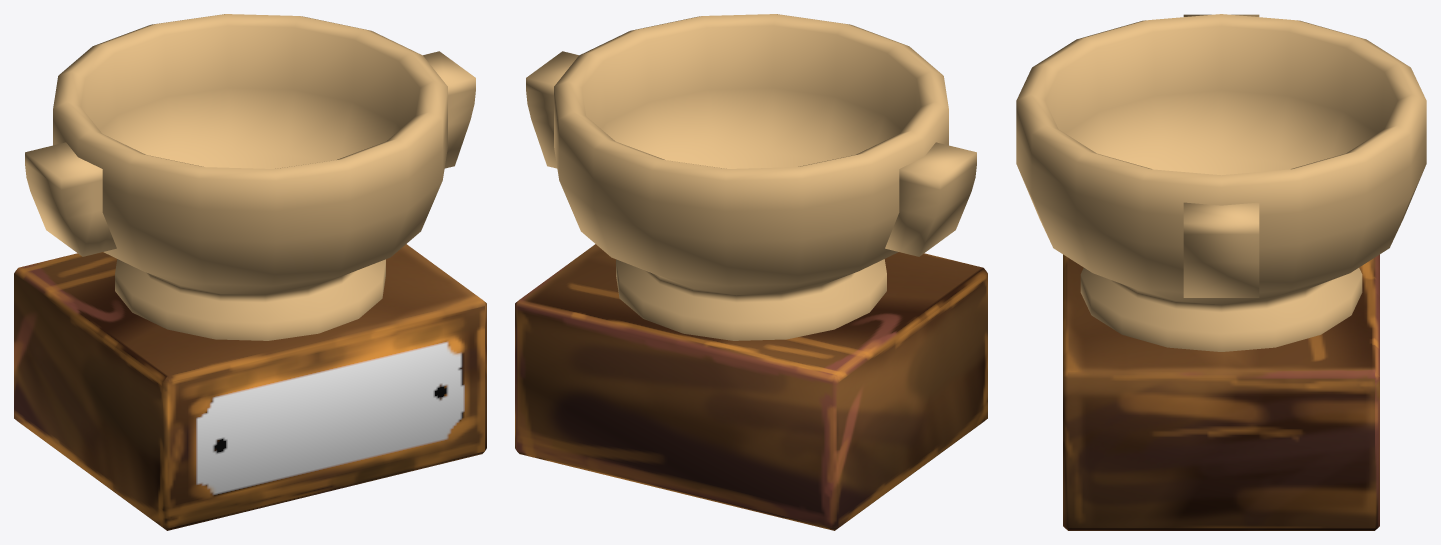
The model's file is CatTrophy.fbx.
3 renders of one model, left to right at view 1: azimuth 30°, elevation 25°; view 2: azimuth 150°, elevation 25°; view 3: azimuth 270°, elevation 25°, orthographic. The views are drawn at different scales.
Parts seen in each view (by area): view 1: Cylinder; view 2: Cylinder; view 3: Cylinder.
Part boxes in pixels (x1,y1,x2,y2): Cylinder: (14,14,486,530); Cylinder: (515,14,987,530); Cylinder: (1016,14,1426,530).
Bounding box in the file's own units: 16.97 × 13.56 × 14.12.
